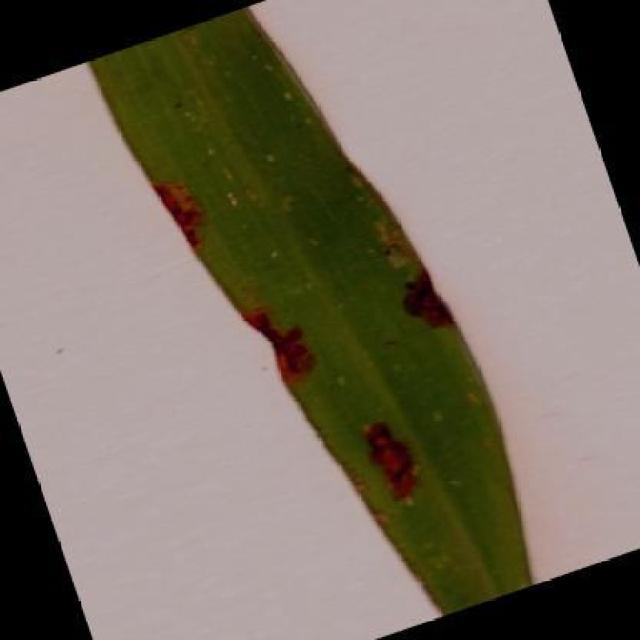Leaf_Blast: (218, 281, 344, 405), (329, 403, 448, 520), (136, 164, 230, 262), (379, 257, 470, 348)
